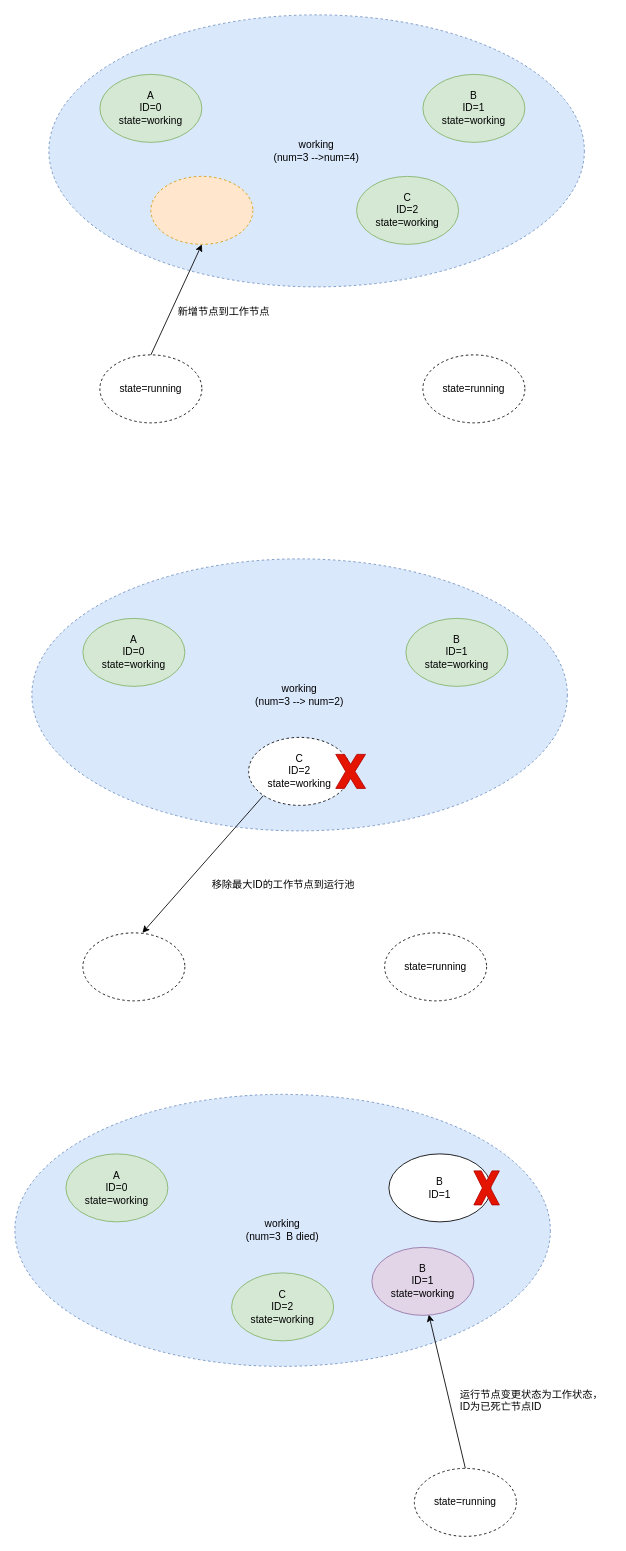
This 626x1551 diagram has some shape labels left out. Here are the shapes that lost their labels. From the top down, the centre of each, then its label:
At [201,210]: "D ID=3 state=working".
At [133,966]: "C state=running".
